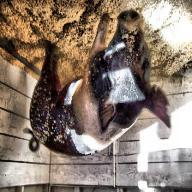boar: (23, 10, 171, 157)
